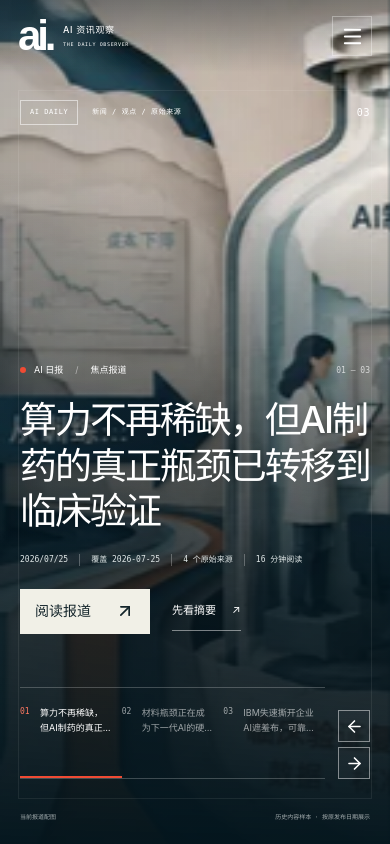
it: keeps the homepage and other sections on their existing routes and closes the mobile menu on Escape
The image size is (390, 844).
Click the button named "打开栏目菜单". click: (352, 36)
box: x1=332 y1=16 x2=372 y2=56
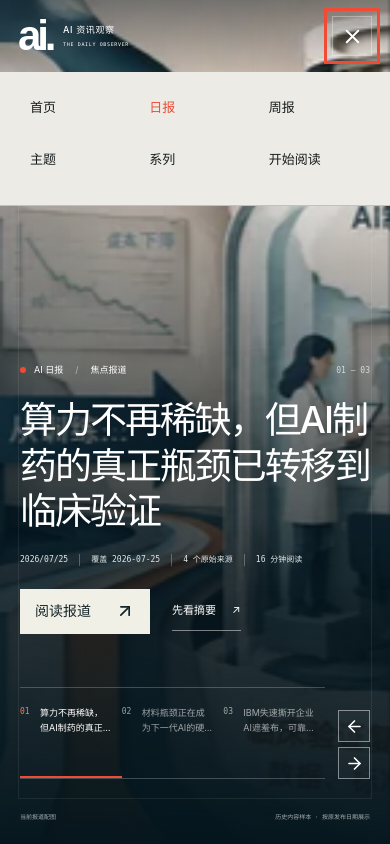
Expected: the button named "关闭栏目菜单" is expanded, x1=332 y1=16 x2=372 y2=56
Press Escape
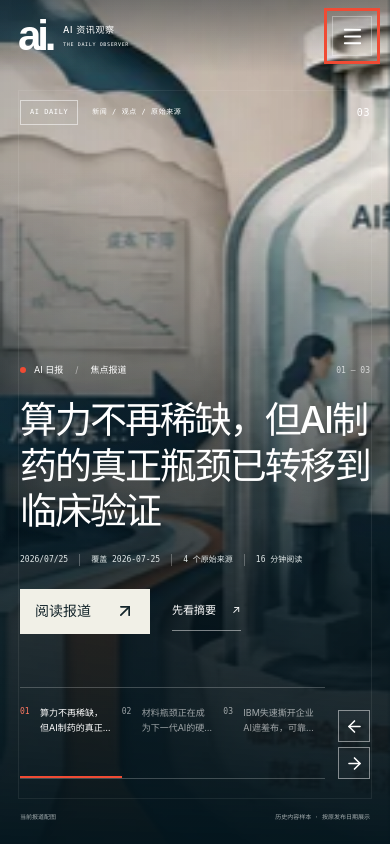
Expected: the button named "打开栏目菜单" is collapsed, x1=332 y1=16 x2=372 y2=56
